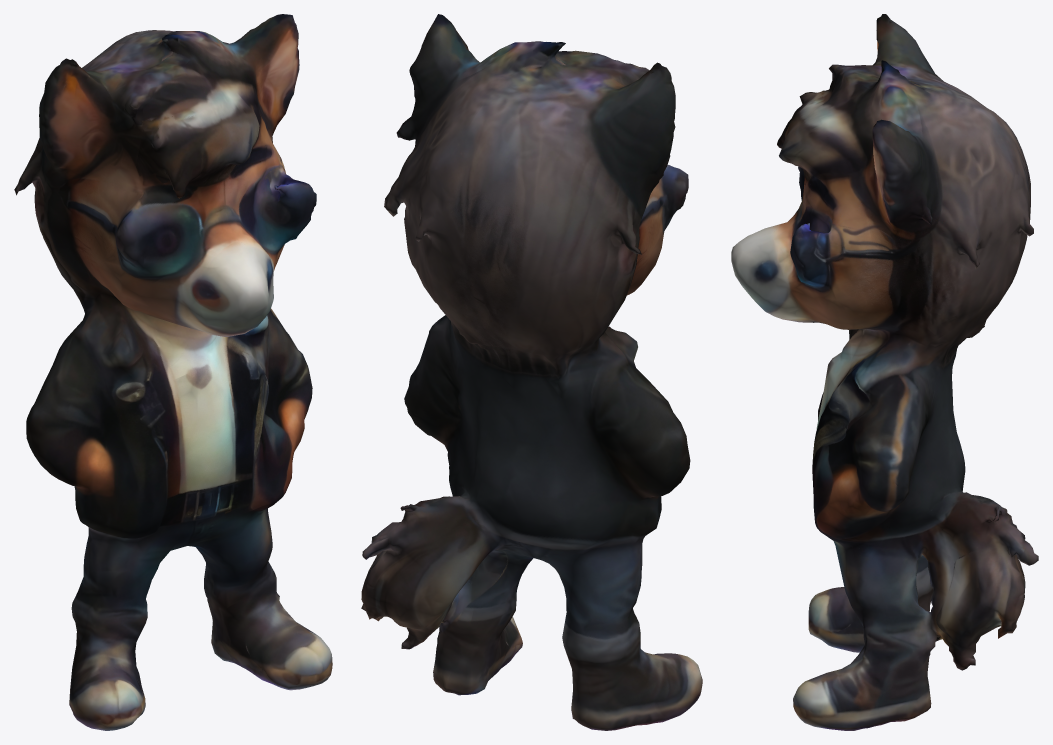
File: 6_shure.glb
The picture shows the model from 3 angles, left to right: view 1: azimuth 30°, elevation 25°; view 2: azimuth 150°, elevation 25°; view 3: azimuth 270°, elevation 25°; orthographic projection. The views are drawn at different scales.
Size of the model in its own units: 0.5193 by 1.2 by 0.5378.
Materials: 1 (1 with a texture image).
